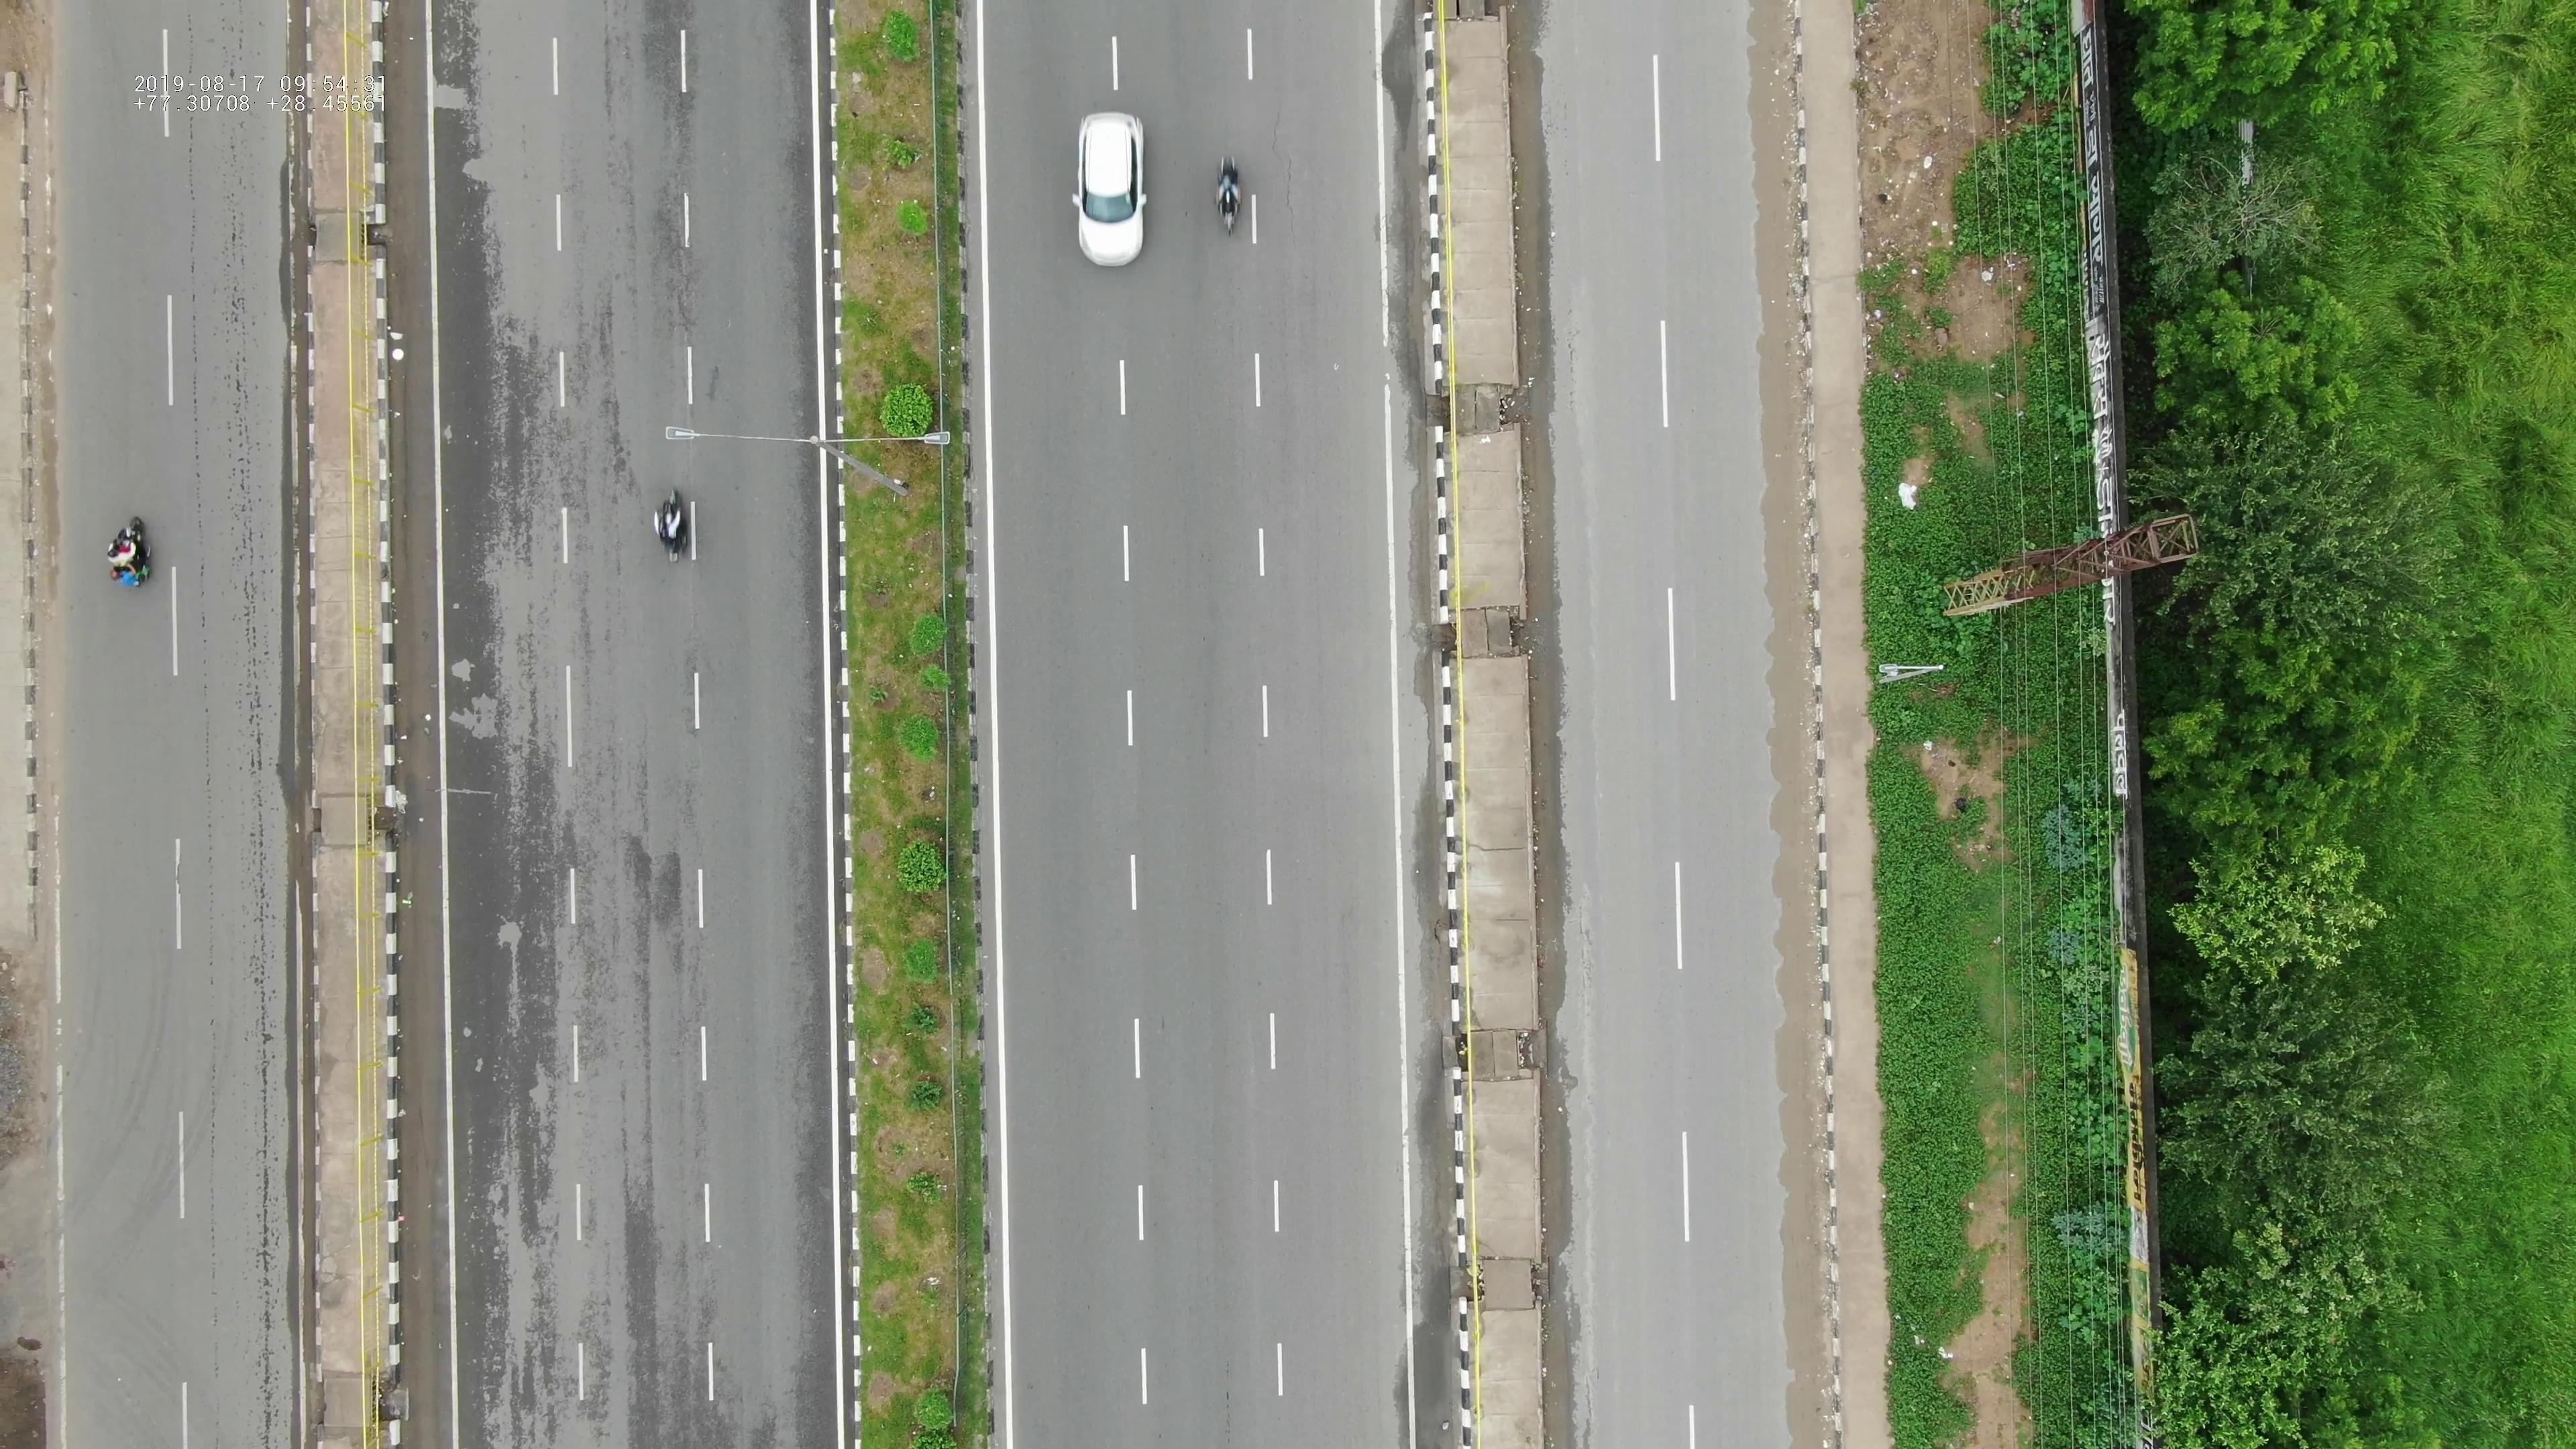Muddy_road: (1729, 11, 1844, 747), (1750, 782, 1836, 1444)
